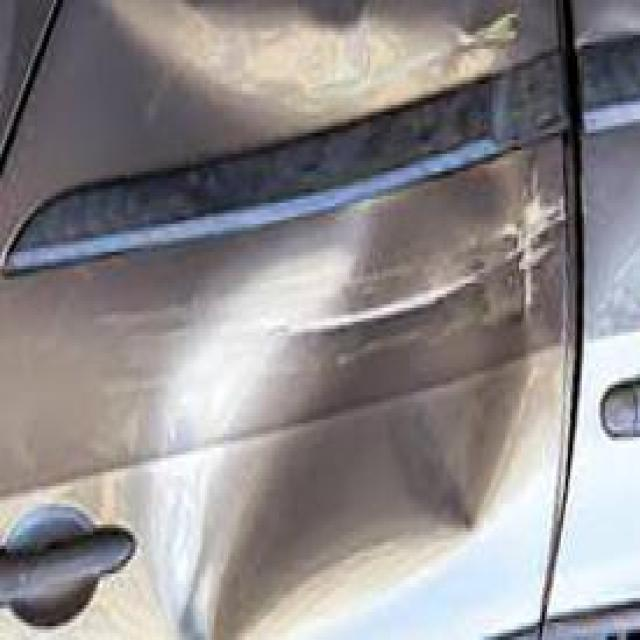dent: (147, 133, 572, 640)
